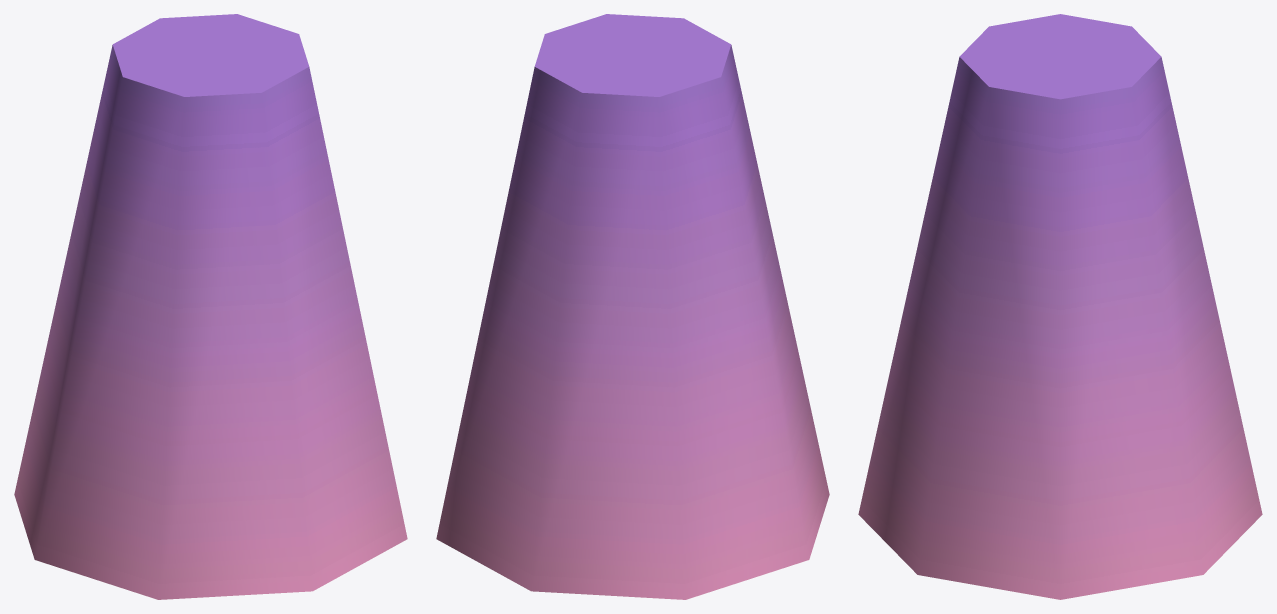
File: enemy-ufo-beam.glb
3 renders of one model, left to right at view 1: azimuth 30°, elevation 25°; view 2: azimuth 150°, elevation 25°; view 3: azimuth 270°, elevation 25°, orthographic.
Parts seen in each view (by area): view 1: enemy-ufo-beam; view 2: enemy-ufo-beam; view 3: enemy-ufo-beam.
Part boxes in pixels (box(x1,y1,x2,y2)): enemy-ufo-beam: box(14, 14, 407, 599); enemy-ufo-beam: box(436, 14, 829, 599); enemy-ufo-beam: box(858, 14, 1262, 599).
Bounding box in the file's own units: 0.8 × 1 × 0.8.
Materials: 1 (1 with a texture image).
